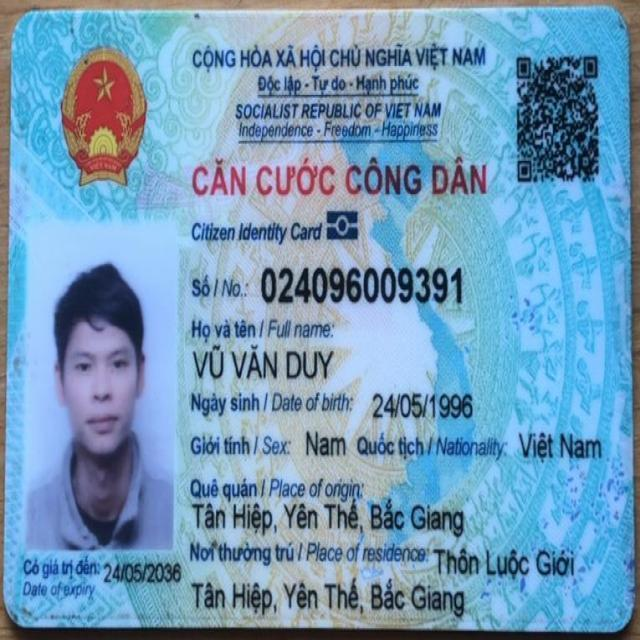current_place: (188, 578, 472, 624), (432, 546, 583, 587)
dob: (369, 385, 478, 428)
expire_date: (102, 559, 182, 593)
gender: (302, 423, 349, 463)
id: (257, 258, 476, 316)
name: (192, 341, 341, 385)
nationality: (513, 424, 606, 467)
origin_place: (187, 497, 469, 544)
